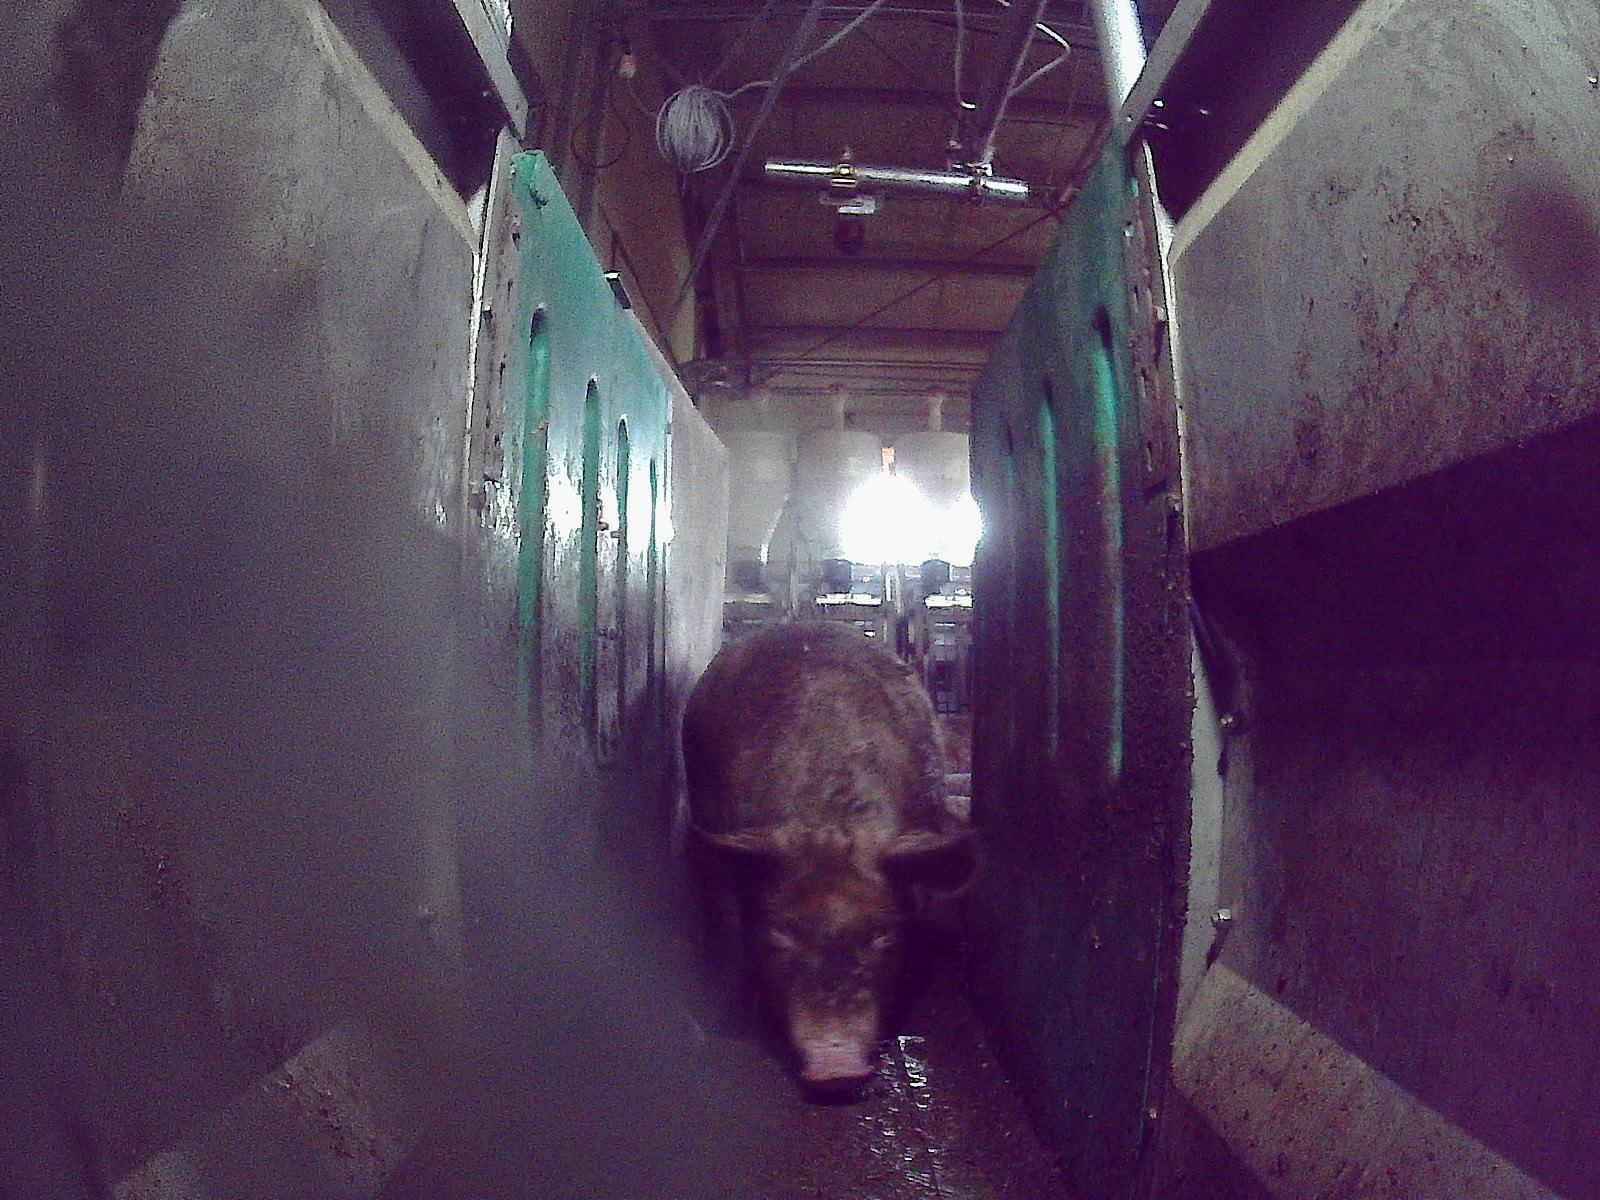Face: (747, 837, 909, 1091)
